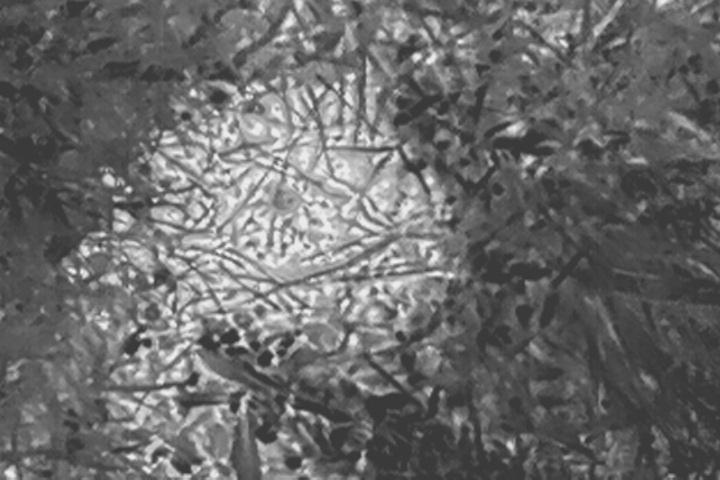landmine: (141, 86, 471, 353)
